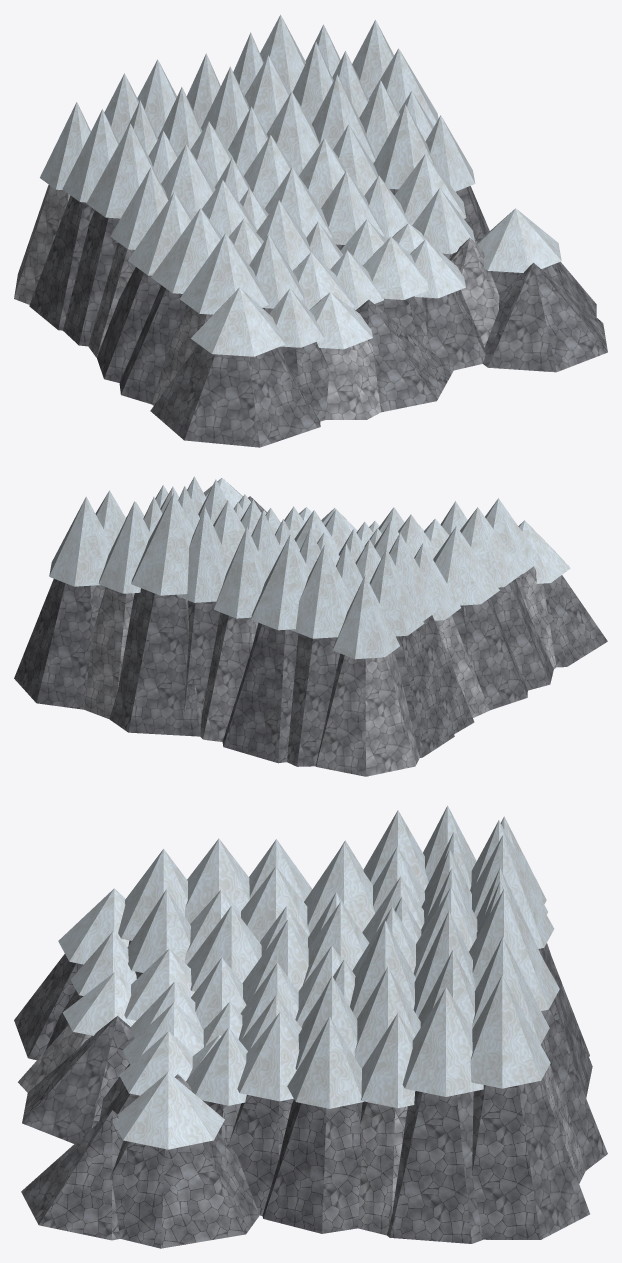
The model's file is chunk_9_0.glb.
3 views of the same model, one above another, from view 1: azimuth 30°, elevation 25°; view 2: azimuth 150°, elevation 25°; view 3: azimuth 270°, elevation 25° (orthographic). The views are drawn at different scales.
Parts seen in each view (by area): view 1: chunk_9_0; view 2: chunk_9_0; view 3: chunk_9_0.
Part boxes in pixels (<box>): chunk_9_0: <box>14,14,607,447</box>; chunk_9_0: <box>14,476,607,776</box>; chunk_9_0: <box>14,805,607,1248</box>.
Size of the model in its own units: 21.74 by 10.8 by 21.21.
6 materials, 6 textured.
